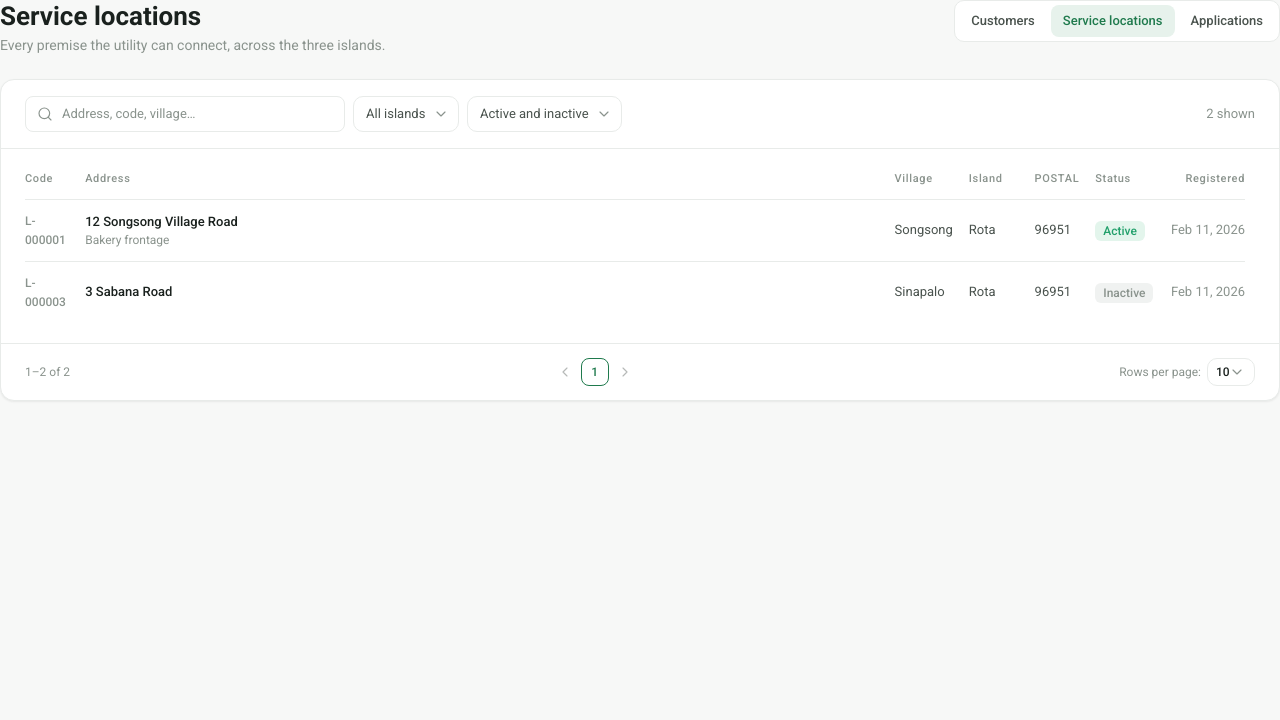
ServiceLocationsPage › shows why a premise was deactivated
Check: the text "3 Sabana Road" is shown, box [85, 284, 172, 300]
Click the button "3 Sabana Road". click: (129, 292)
box: [85, 284, 879, 302]
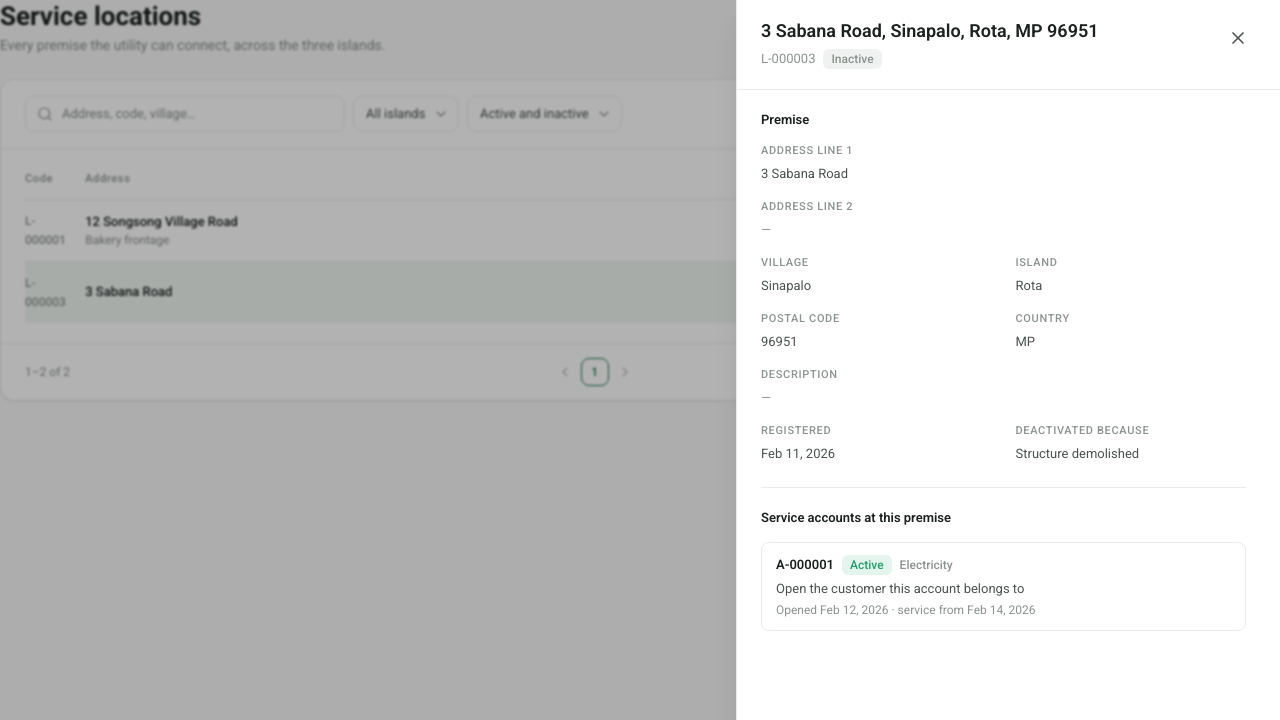
Check: the text "Deactivated because" is shown, box [1016, 424, 1149, 437]
Check: the text "Structure demolished" is shown, box [1016, 446, 1139, 460]
